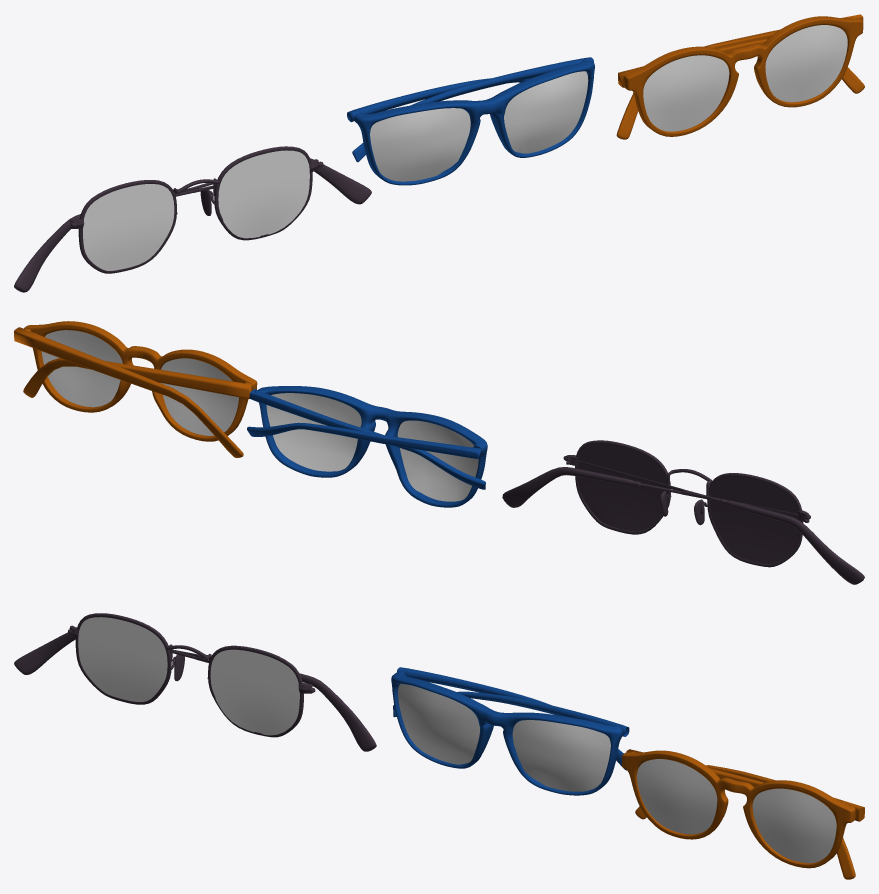
File: foldedcolor.fbx
3 renders of one model, top to bottom at view 1: azimuth 30°, elevation 25°; view 2: azimuth 150°, elevation 25°; view 3: azimuth 330°, elevation 25°, orthographic. The views are drawn at different scales.
Visible parts, largest first — view 1: glasses2.001, glasses1.001, glasses4.001; view 2: glasses1.001, glasses2.001, glasses4.001; view 3: glasses2.001, glasses1.001, glasses4.001.
Part boxes in pixels (x1,y1,x2,y2): glasses2.001: (347,57,594,185); glasses1.001: (14,146,371,292); glasses4.001: (616,14,864,139); glasses1.001: (502,440,864,584); glasses2.001: (247,386,487,507); glasses4.001: (14,321,257,457); glasses2.001: (391,667,629,795); glasses1.001: (14,613,376,751); glasses4.001: (621,749,864,879).
Size of the model in its own units: 169 by 17.76 by 14.32.
